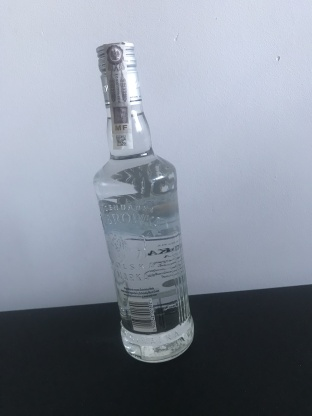nakretka: (94, 39, 145, 110)
